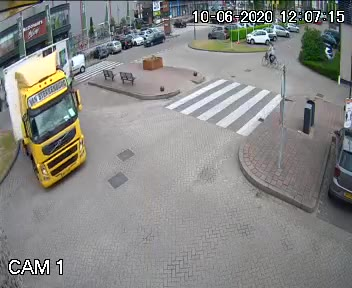car: (4, 33, 81, 208)
